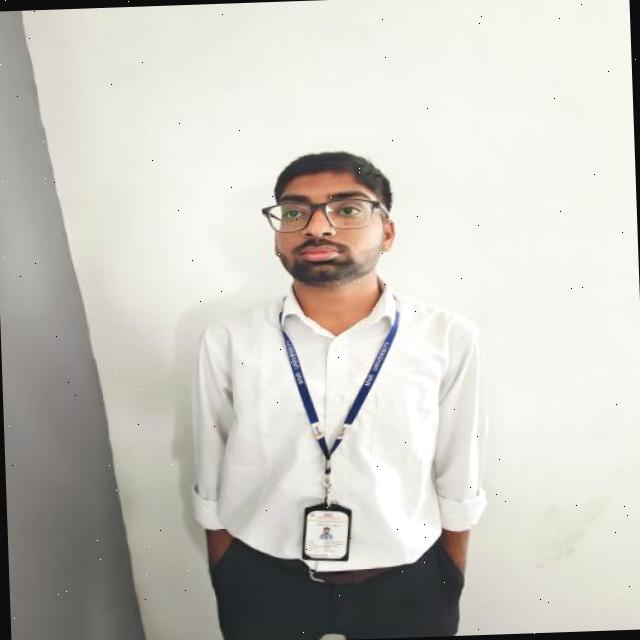Card: (302, 503, 351, 561)
Id strap: (279, 311, 399, 461)
